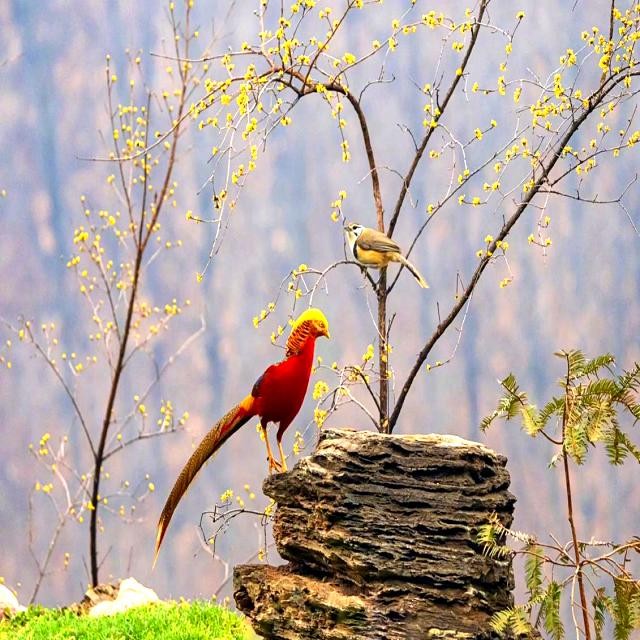Chrysolophus pictus feather: (152, 407, 245, 570)
